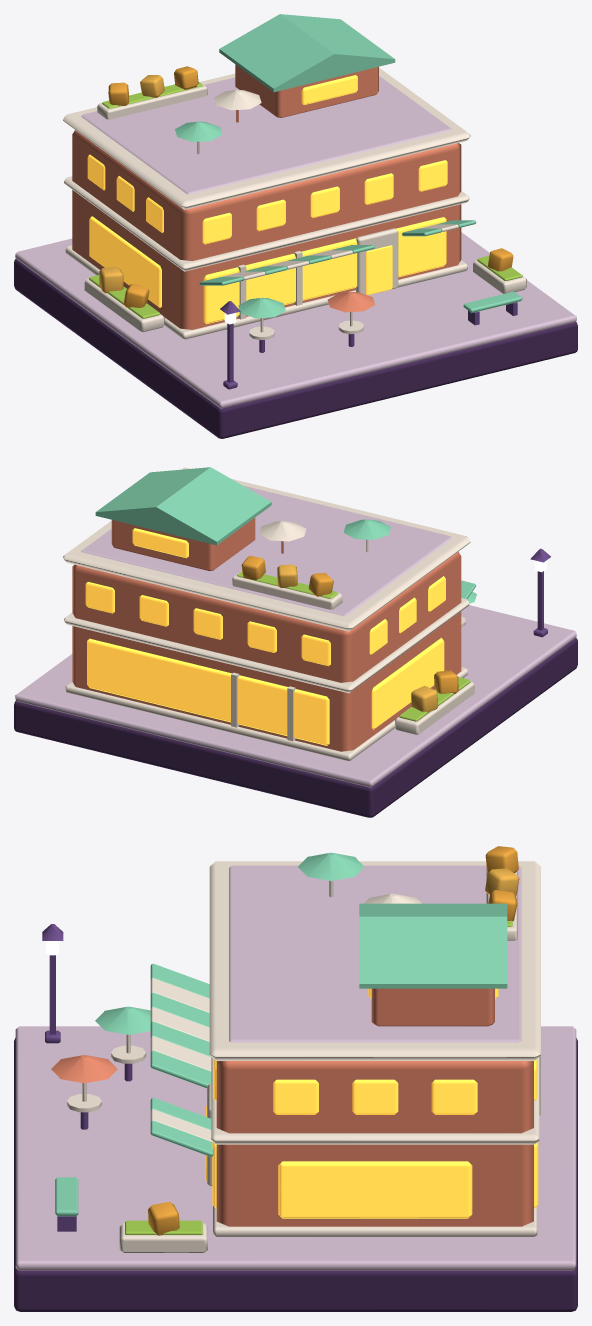
File: modern_building_1Level_Demo.glb
The picture shows the model from 3 angles, top to bottom: view 1: azimuth 30°, elevation 25°; view 2: azimuth 150°, elevation 25°; view 3: azimuth 270°, elevation 25°; orthographic projection. The views are drawn at different scales.
Visible parts, largest first — view 1: MB1_Paving, MB1_Coral, MB1_Cream, MB1_Amber, MB1_Base, MB1_Mint, MB1_Leaf, MB1_Grass, MB1_Purple, MB1_Leaf2; view 2: MB1_Paving, MB1_Coral, MB1_Amber, MB1_Cream, MB1_Base, MB1_Mint, MB1_Leaf, MB1_Leaf2, MB1_Grass, MB1_Purple; view 3: MB1_Paving, MB1_Coral, MB1_Cream, MB1_Base, MB1_Mint, MB1_Amber, MB1_Leaf, MB1_Purple, MB1_Grass, MB1_Leaf2.
Boxes of the visible parts, box(x1,y1,x2,y2) form: MB1_Paving: box(15, 76, 576, 408); MB1_Coral: box(72, 64, 461, 329); MB1_Cream: box(63, 68, 526, 339); MB1_Amber: box(87, 75, 447, 324); MB1_Base: box(14, 259, 577, 438); MB1_Mint: box(175, 14, 522, 318); MB1_Leaf: box(108, 66, 513, 307); MB1_Grass: box(89, 82, 522, 318); MB1_Purple: box(220, 301, 517, 389); MB1_Leaf2: box(99, 75, 164, 293); MB1_Paving: box(15, 485, 576, 787); MB1_Coral: box(72, 517, 461, 751); MB1_Amber: box(85, 528, 445, 745); MB1_Cream: box(63, 467, 474, 761); MB1_Base: box(14, 638, 577, 817); MB1_Mint: box(95, 467, 476, 603); MB1_Leaf: box(241, 555, 458, 693); MB1_Leaf2: box(277, 564, 438, 712); MB1_Grass: box(237, 571, 470, 721); MB1_Purple: box(530, 548, 550, 637); MB1_Paving: box(15, 865, 576, 1270); MB1_Coral: box(51, 988, 533, 1226); MB1_Cream: box(67, 861, 540, 1252); MB1_Base: box(14, 1038, 577, 1311); MB1_Mint: box(55, 852, 507, 1216); MB1_Amber: box(205, 988, 538, 1218); MB1_Leaf: box(148, 846, 518, 1235); MB1_Purple: box(42, 924, 132, 1231); MB1_Grass: box(125, 920, 512, 1234); MB1_Leaf2: box(485, 868, 519, 895).
Bounding box in the file's own units: 3.2 × 2 × 3.2.
